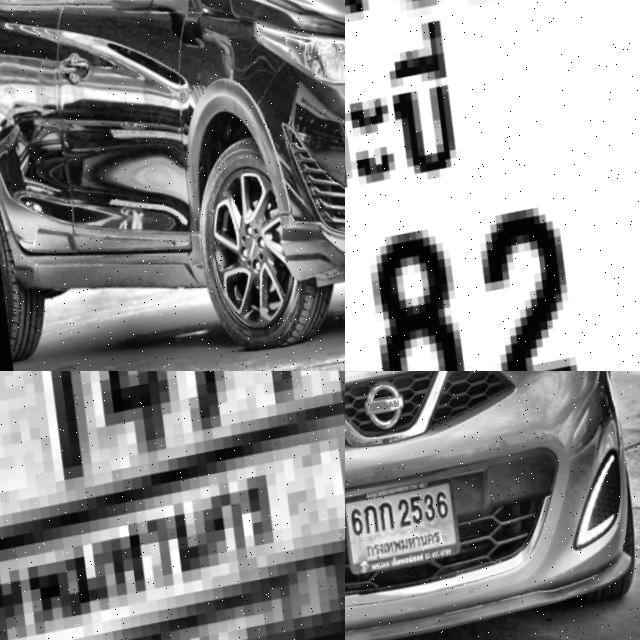license-plate: (345, 0, 640, 371), (0, 371, 345, 640), (345, 463, 478, 591)
